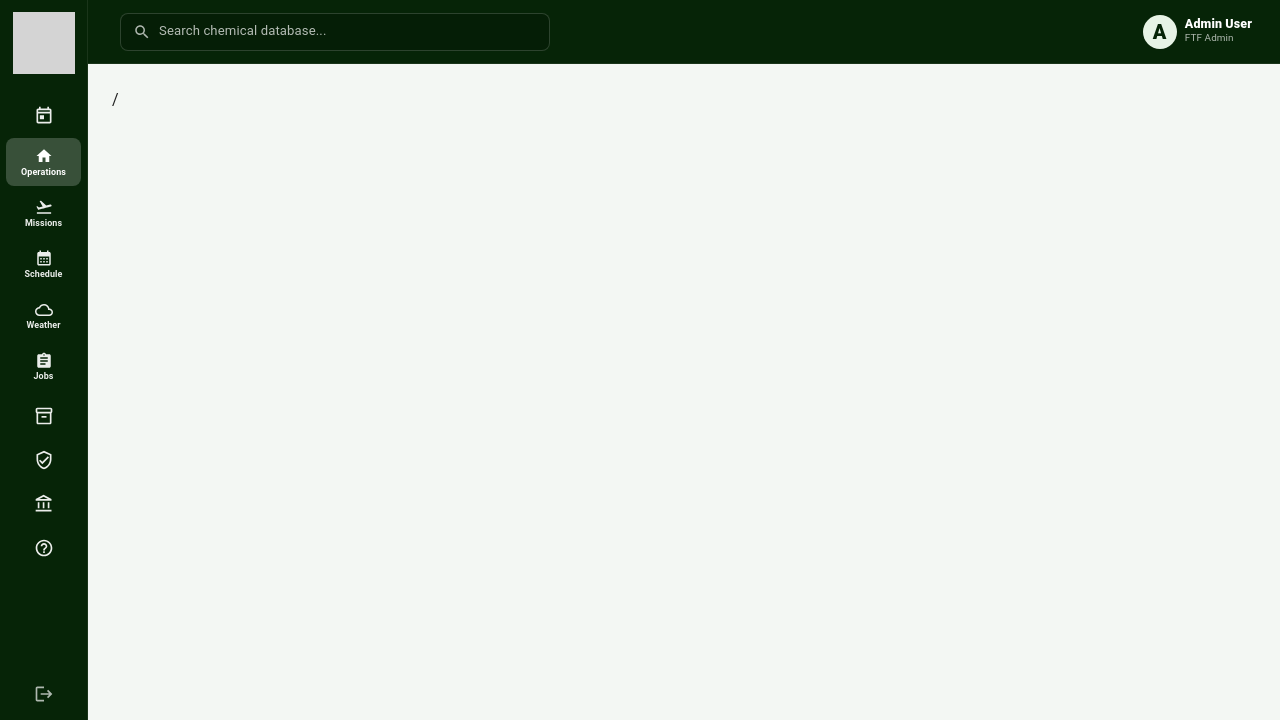
Test: renders compact desktop group headings with tooltips
This screenshot has width=1280, height=720.
Expected: the number of lists named "Primary navigation" is 1, [0,86,87,668]
Expected: the text "Daily operations" is not shown
Hover over the button named "Daily operations" at {"x": 44, "y": 116}, box [34,106,54,126]
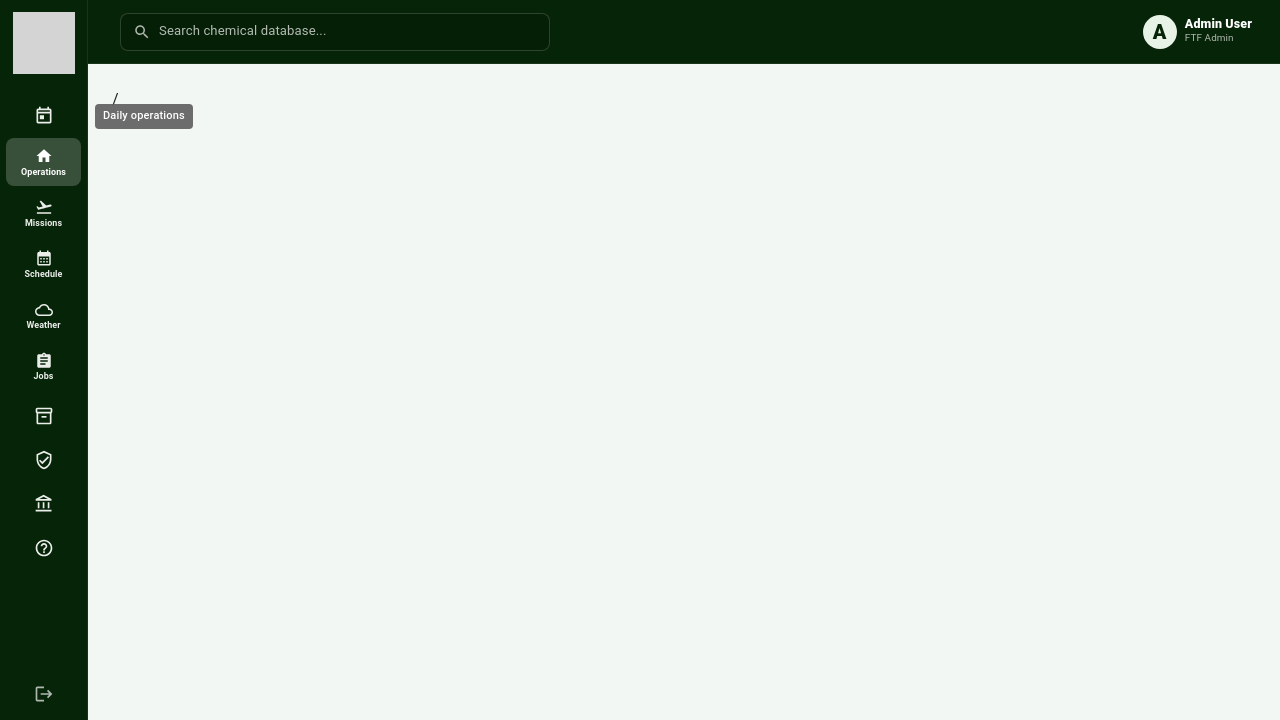
Expected: the tooltip reads "Daily operations", [103,109,185,122]
